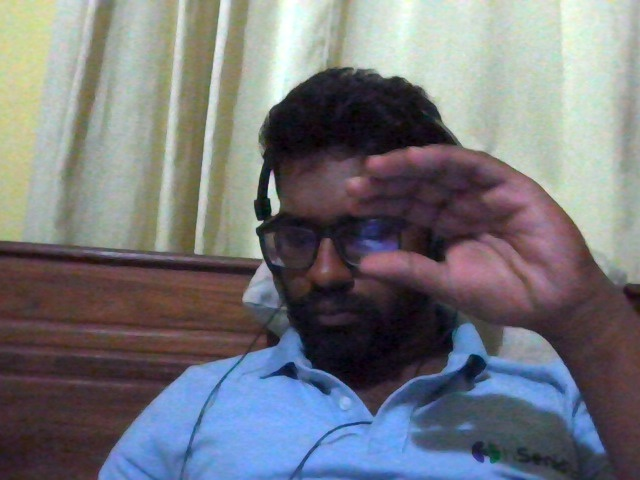No: (314, 109, 609, 348)
